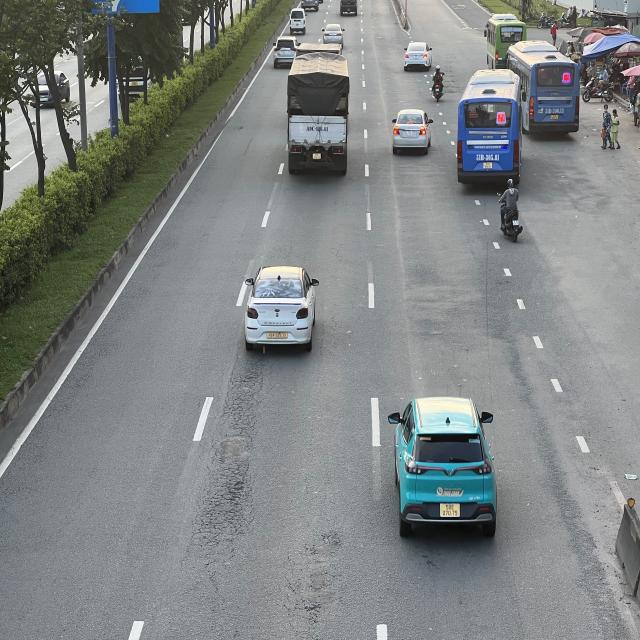car: (388, 394, 496, 539), (244, 266, 320, 350), (391, 110, 434, 155), (404, 43, 434, 73), (273, 36, 298, 66), (324, 23, 347, 50)
coach: (457, 70, 523, 186), (505, 40, 582, 131), (486, 11, 527, 70)
truck: (288, 51, 354, 172)
van: (288, 8, 306, 33)
